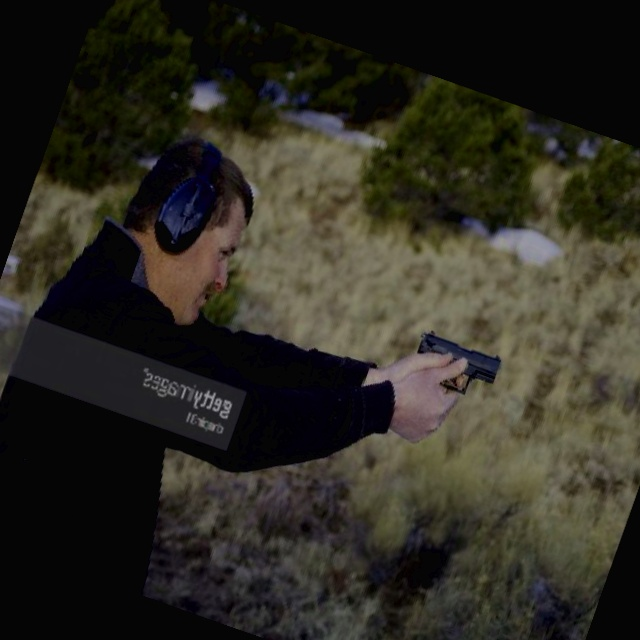gun: (398, 320, 515, 408)
